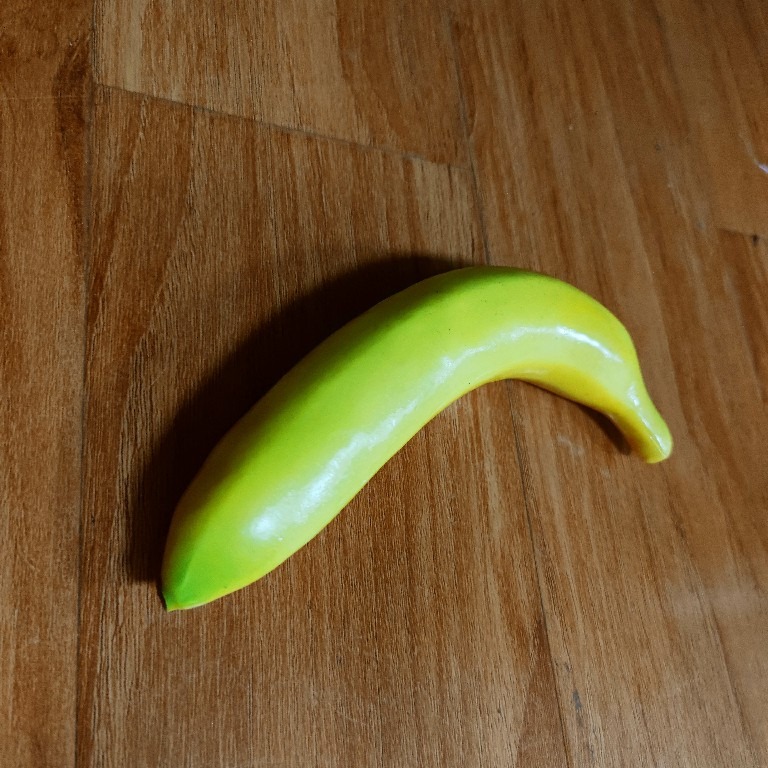fruit_banana: (146, 263, 681, 618)
